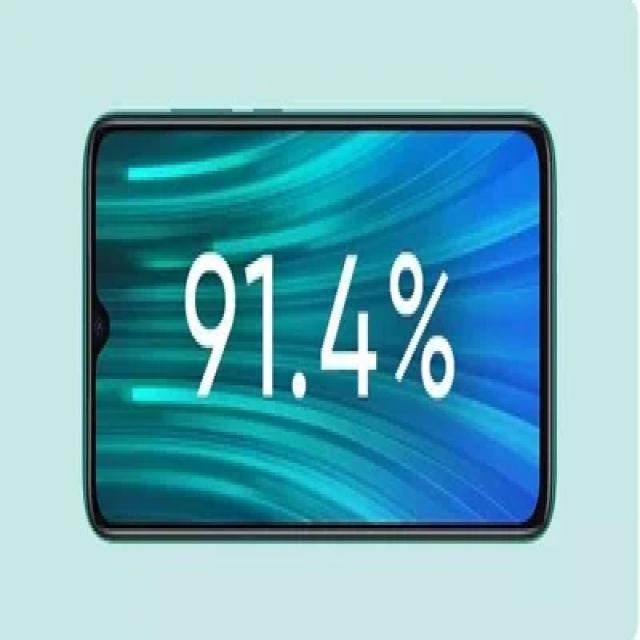Red Mi Note 8 Pro: (80, 112, 557, 547)
